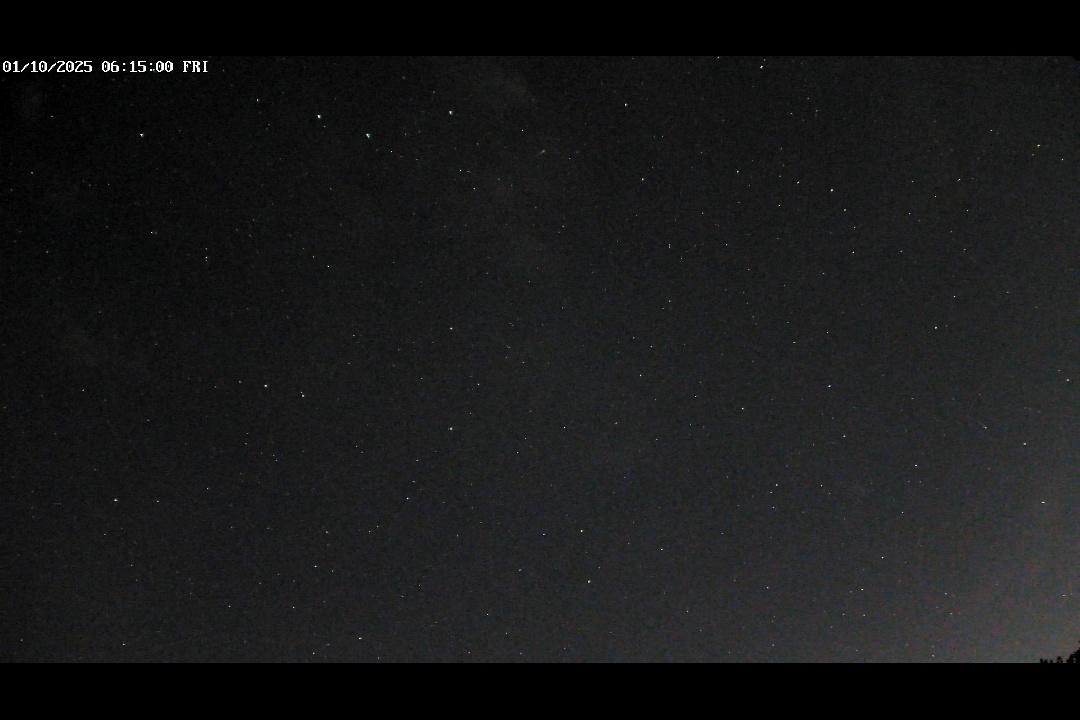Plane: (528, 146, 551, 162), (318, 640, 333, 652)
